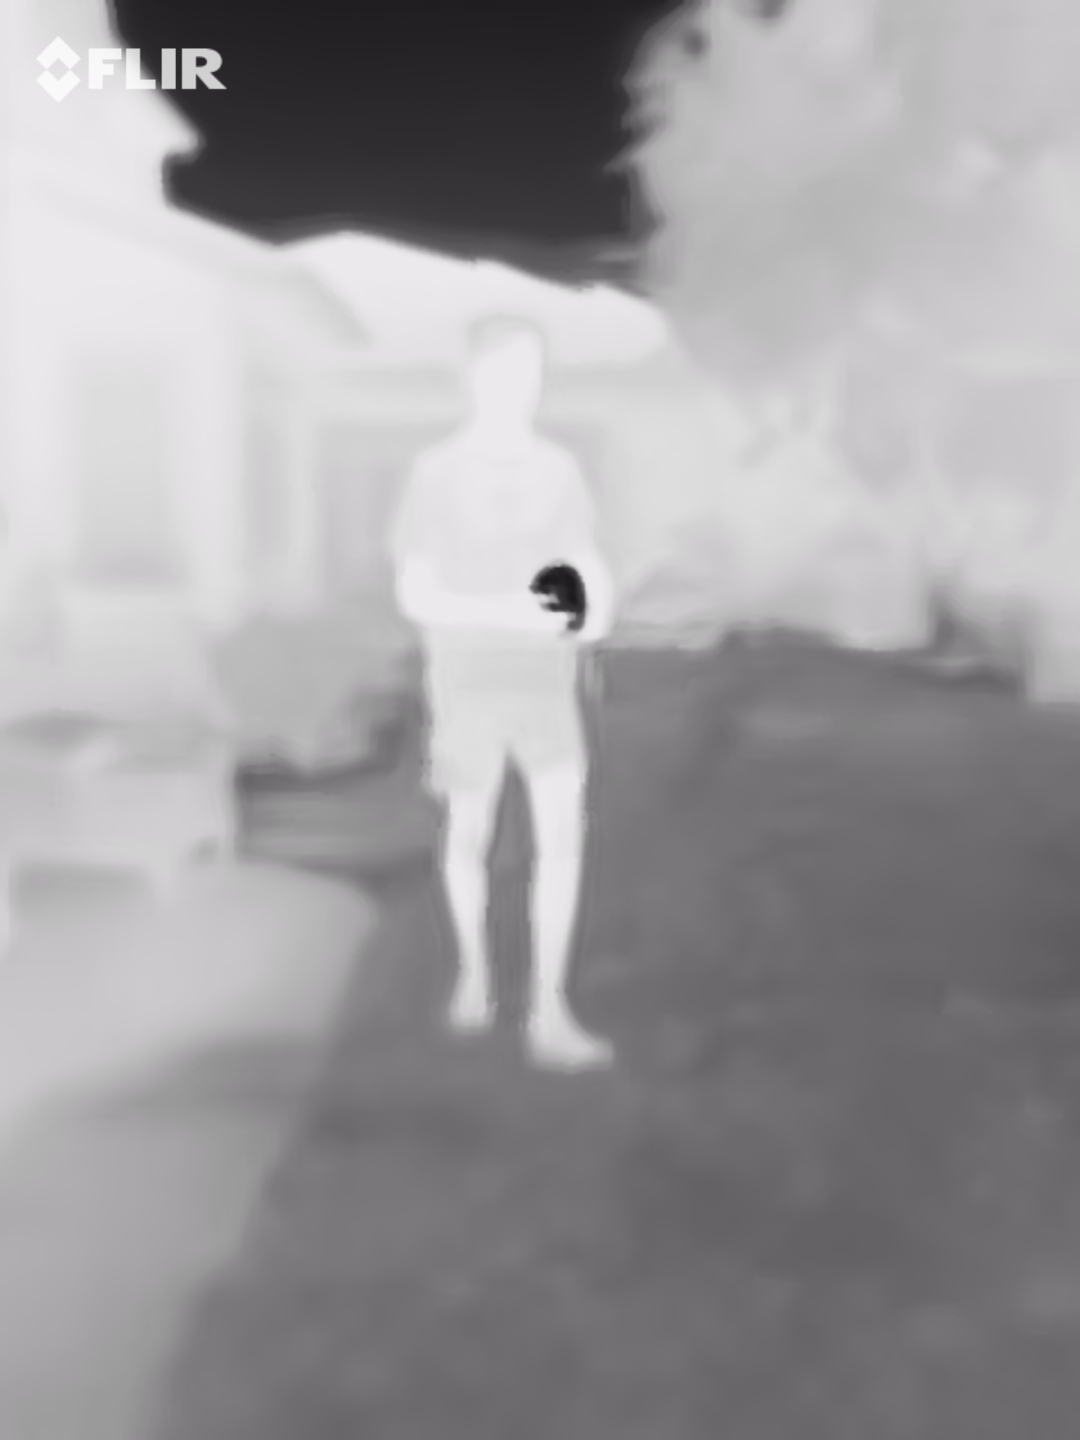head: (465, 312, 551, 433)
